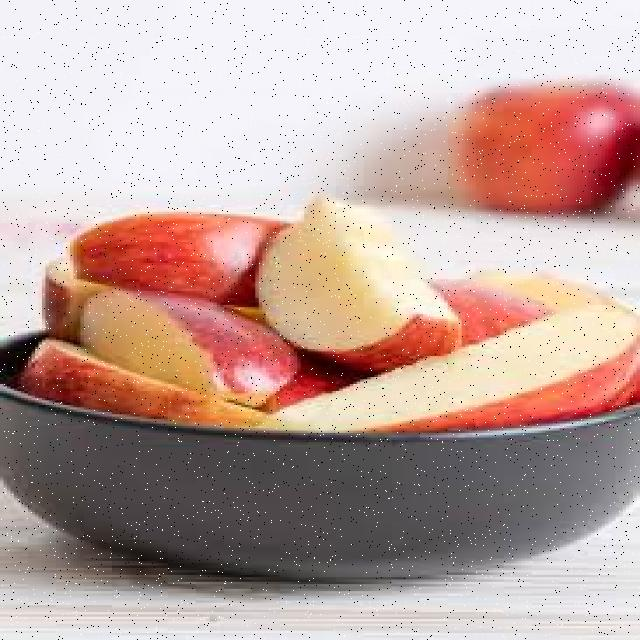Apple: (267, 314, 640, 416), (257, 195, 460, 355), (35, 342, 266, 447), (75, 290, 285, 399), (458, 84, 640, 209), (66, 205, 268, 286)
